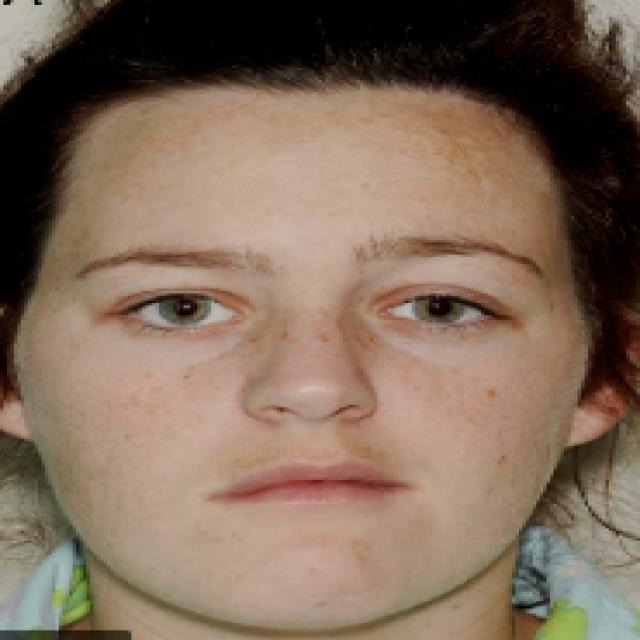stroke_face: (22, 28, 610, 632)
